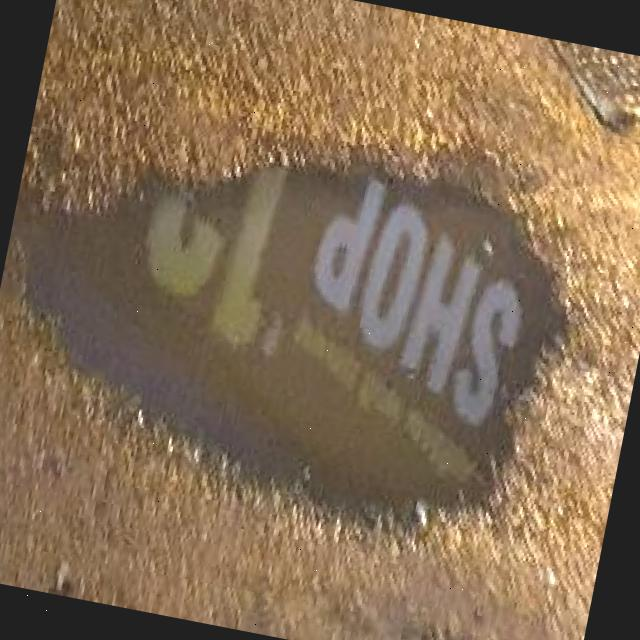stagnation: (0, 85, 575, 557)
